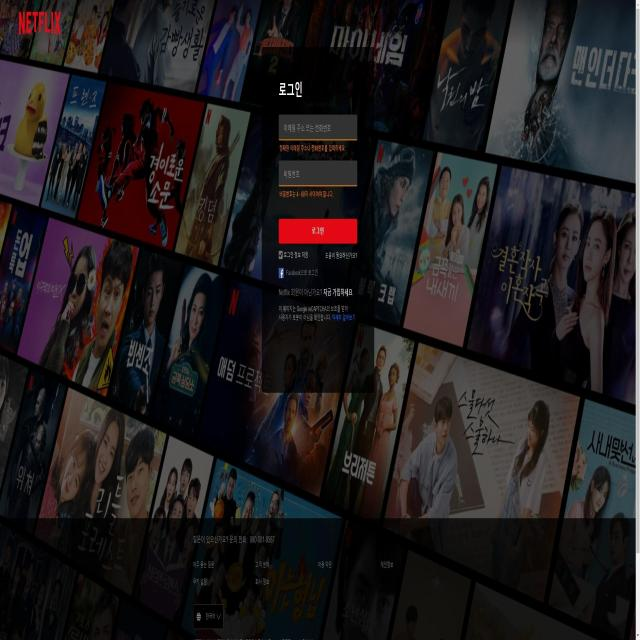button: (279, 217, 356, 244)
input: (278, 158, 356, 188), (278, 112, 358, 140)
